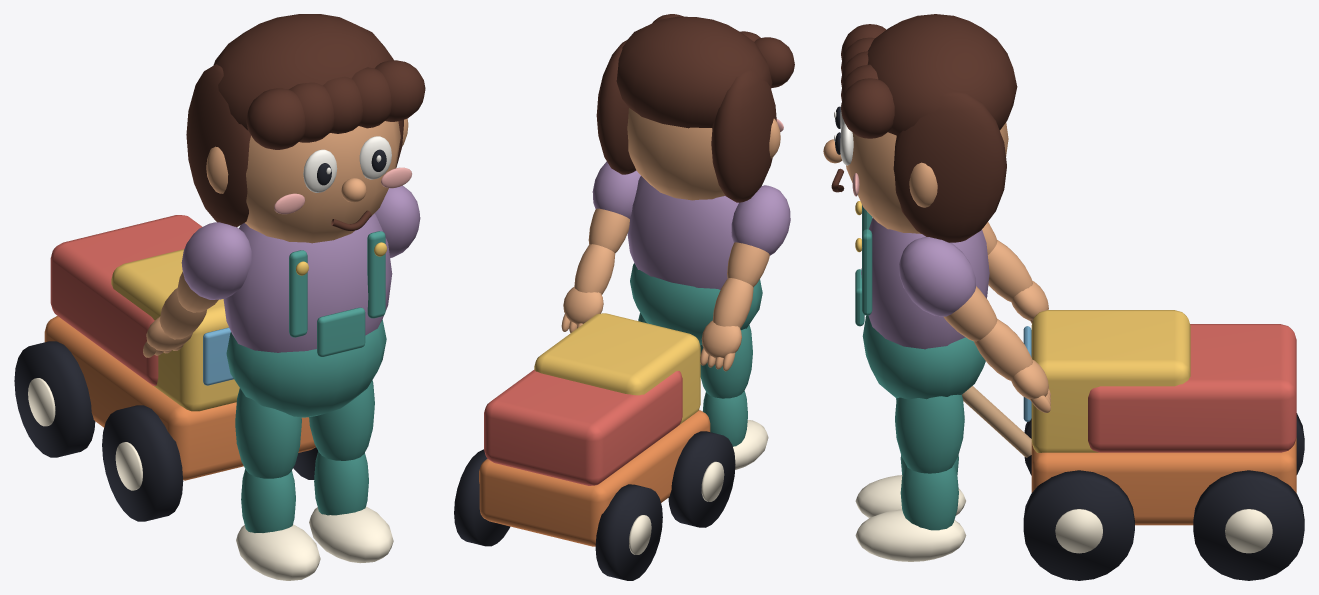
The model's file is mommy-pull.glb.
3 views of the same model, side by side, from view 1: azimuth 30°, elevation 25°; view 2: azimuth 150°, elevation 25°; view 3: azimuth 270°, elevation 25° (orthographic). The views are drawn at different scales.
Visible parts, largest first — view 1: soft shirt, wagon cargo, hair cap, clay head, vehicle body, overalls, cabin, bob hair, rubber wheel, rubber wheel.001, shirt sleeve, trouser leg (+24 smaller); view 2: wagon cargo, hair cap, vehicle body, cabin, soft shirt, bob hair, clay head, rubber wheel.001, rubber wheel, overalls, shirt sleeve, bob hair.001 (+14 smaller); view 3: wagon cargo, cabin, bob hair.001, hair cap, vehicle body, rubber wheel.002, rubber wheel.003, soft shirt, overalls, trouser leg.001, shirt sleeve.001, clay head (+14 smaller).
Part boxes in pixels (left/top/right/bottom): soft shirt: left=223, top=213, right=392, bottom=352; wagon cargo: left=50, top=215, right=202, bottom=385; hair cap: left=213, top=14, right=393, bottom=130; clay head: left=245, top=121, right=400, bottom=243; vehicle body: left=44, top=316, right=315, bottom=480; overalls: left=226, top=319, right=386, bottom=417; cabin: left=111, top=249, right=239, bottom=411; bob hair: left=186, top=64, right=250, bottom=227; rubber wheel: left=102, top=405, right=183, bottom=521; rubber wheel.001: left=14, top=341, right=95, bottom=457; shirt sleeve: left=181, top=222, right=251, bottom=299; trouser leg: left=235, top=388, right=301, bottom=478; wagon cargo: left=484, top=370, right=682, bottom=485; hair cap: left=616, top=16, right=772, bottom=128; vehicle body: left=479, top=410, right=710, bottom=546; cabin: left=534, top=313, right=700, bottom=424; soft shirt: left=627, top=176, right=738, bottom=289; bob hair: left=711, top=70, right=776, bottom=202; clay head: left=627, top=108, right=725, bottom=200; rubber wheel.001: left=595, top=484, right=662, bottom=580; rubber wheel: left=668, top=431, right=735, bottom=527; overalls: left=630, top=263, right=762, bottom=345; shirt sleeve: left=731, top=185, right=790, bottom=255; bob hair.001: left=596, top=40, right=636, bottom=174; wagon cargo: left=1088, top=324, right=1296, bottom=452; cabin: left=1031, top=310, right=1190, bottom=452; bob hair.001: left=893, top=92, right=1006, bottom=242; hair cap: left=867, top=14, right=1017, bottom=135; vehicle body: left=1031, top=438, right=1296, bottom=525; rubber wheel.002: left=1023, top=470, right=1134, bottom=580; rubber wheel.003: left=1193, top=470, right=1304, bottom=580; soft shirt: left=861, top=217, right=989, bottom=349; overalls: left=862, top=315, right=985, bottom=399; trouser leg.001: left=895, top=394, right=964, bottom=473; shirt sleeve.001: left=899, top=237, right=975, bottom=316; clay head: left=846, top=122, right=1008, bottom=233.
Bounding box in the file's own units: 0.957 × 2.14 × 1.82.
